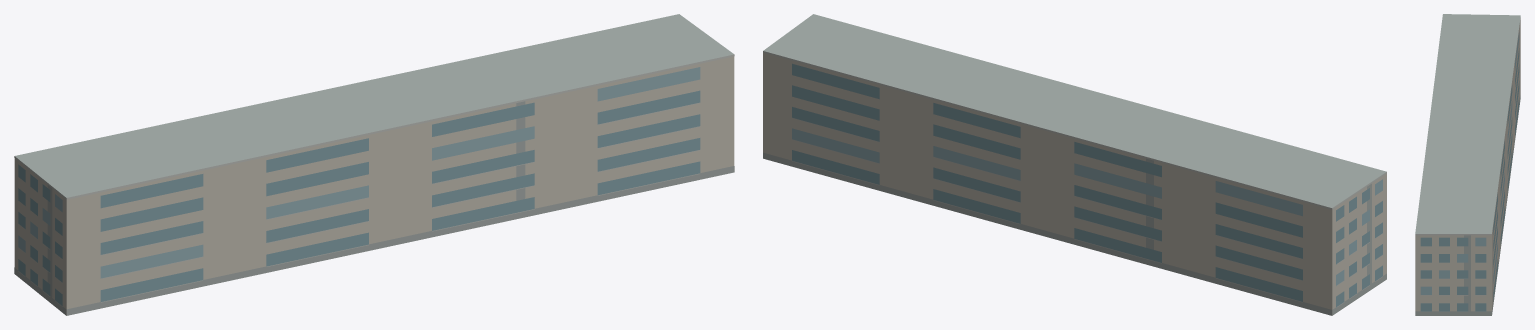
Rendered from residential-b6cc4371-353c-4872-bef6-83c804092b69.glb.
3 renders of one model, left to right at view 1: azimuth 30°, elevation 25°; view 2: azimuth 150°, elevation 25°; view 3: azimuth 270°, elevation 25°, orthographic. The views are drawn at different scales.
Parts seen in each view (by area): view 1: residential-b6cc4371-353c-4872-bef6-83c804092b69.tmp; view 2: residential-b6cc4371-353c-4872-bef6-83c804092b69.tmp; view 3: residential-b6cc4371-353c-4872-bef6-83c804092b69.tmp.
Boxes of the visible parts, bbox=[...] form: residential-b6cc4371-353c-4872-bef6-83c804092b69.tmp: bbox=[14, 14, 734, 315]; residential-b6cc4371-353c-4872-bef6-83c804092b69.tmp: bbox=[763, 14, 1386, 315]; residential-b6cc4371-353c-4872-bef6-83c804092b69.tmp: bbox=[1415, 14, 1520, 315].
Bounding box in the file's own units: 87.66 × 15.25 × 17.79.
